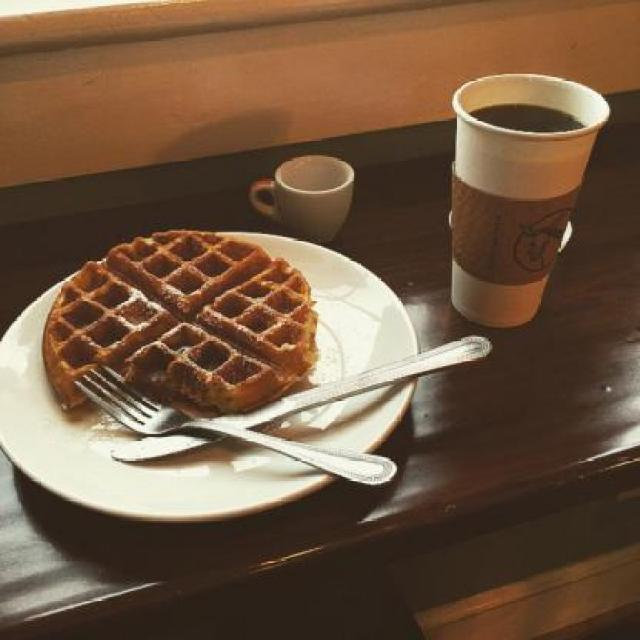Waffle: (37, 222, 316, 416)
